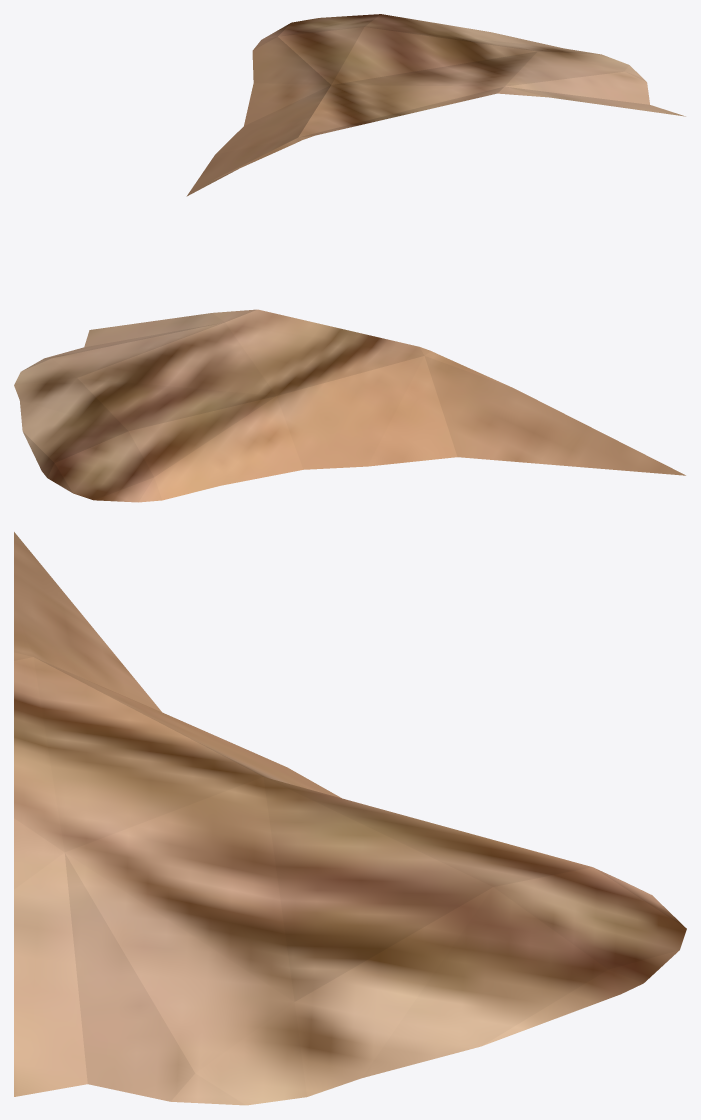
3 views of the same model, one above another, from view 1: azimuth 30°, elevation 25°; view 2: azimuth 150°, elevation 25°; view 3: azimuth 270°, elevation 25° (orthographic). The views are drawn at different scales.
Bounding box in the file's own units: 0.2518 × 0.0253 × 0.1248.
1 material, 1 textured.
